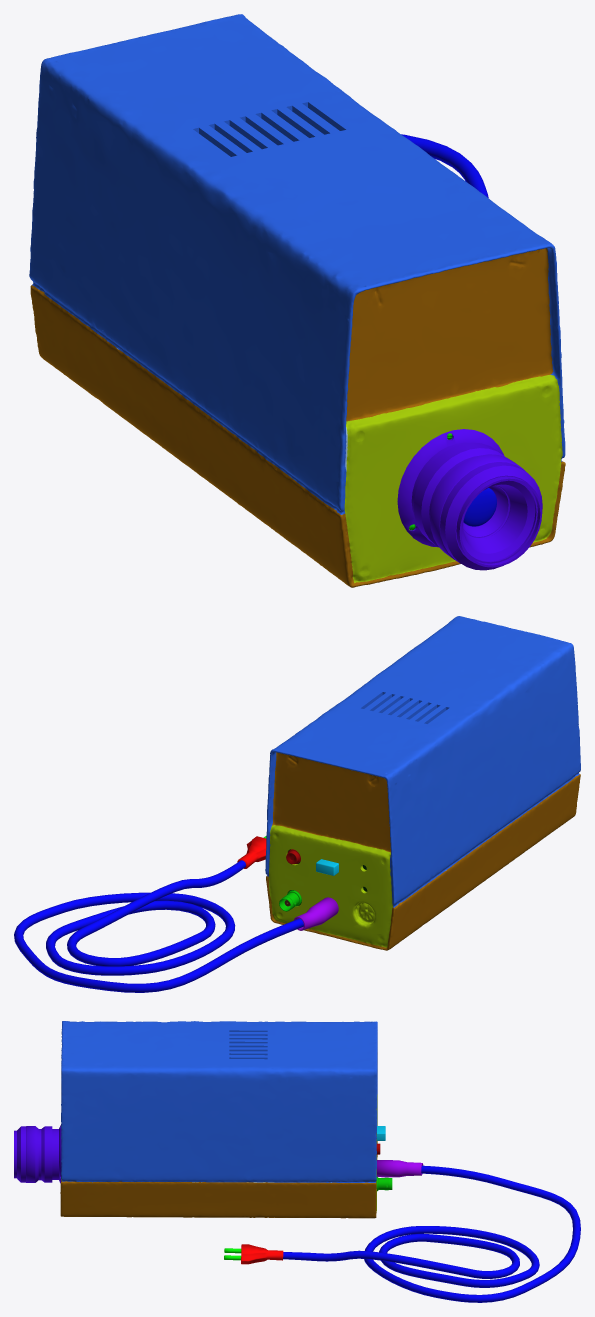
The model's file is MIM 700.fbx.
3 renders of one model, top to bottom at view 1: azimuth 30°, elevation 25°; view 2: azimuth 150°, elevation 25°; view 3: azimuth 270°, elevation 25°, orthographic. The views are drawn at different scales.
Parts seen in each view (by area): view 1: MIM_700, KABEL; view 2: MIM_700, KABEL; view 3: MIM_700, KABEL.
Part boxes in pixels (x1=…): MIM_700: x1=29, y1=14, x2=565, y2=587; KABEL: x1=401, y1=134, x2=488, y2=197; MIM_700: x1=265, y1=616, x2=580, y2=950; KABEL: x1=14, y1=836, x2=303, y2=992; MIM_700: x1=14, y1=1021, x2=423, y2=1218; KABEL: x1=224, y1=1165, x2=580, y2=1302.
Bounding box in the file's own units: 24.25 × 13.32 × 43.89.
